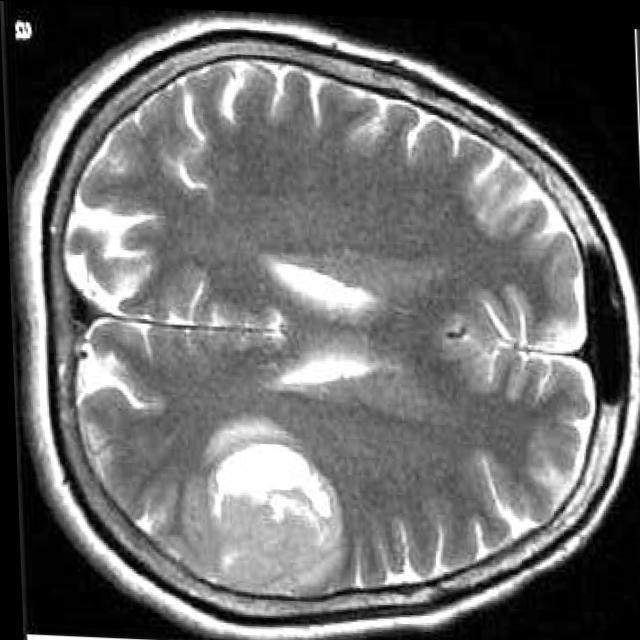Tumor: (205, 440, 340, 595)
